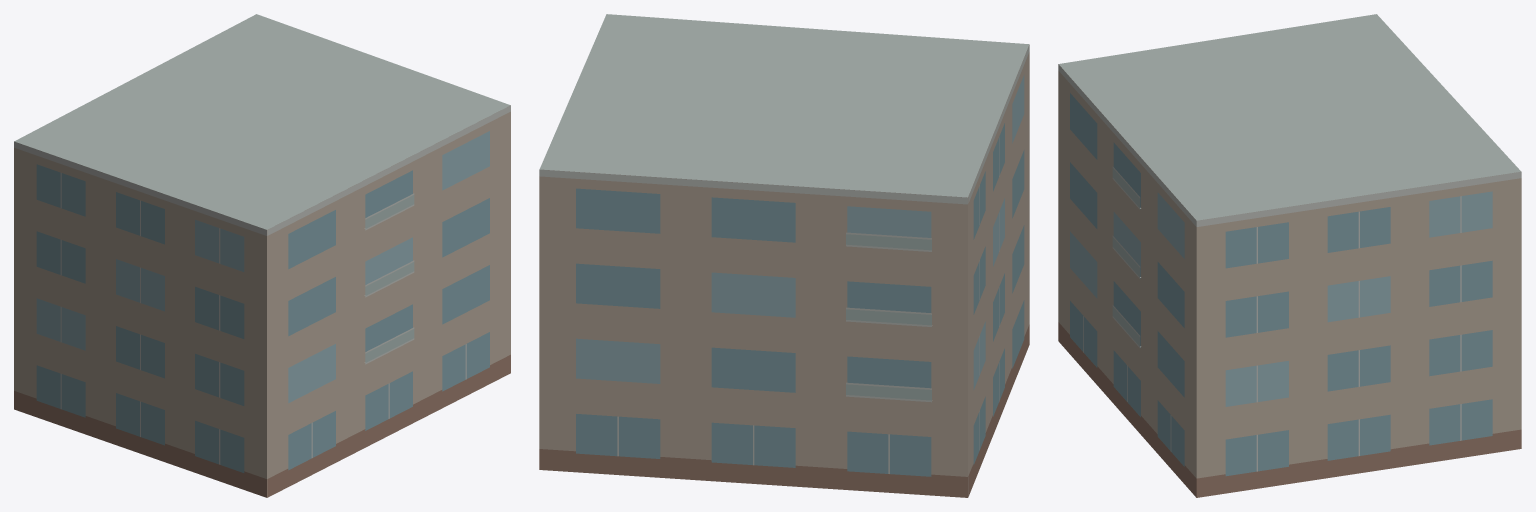
The model's file is survey-upis-32527606.glb.
3 views of the same model, side by side, from view 1: azimuth 30°, elevation 25°; view 2: azimuth 150°, elevation 25°; view 3: azimuth 270°, elevation 25° (orthographic). The views are drawn at different scales.
Visible parts, largest first — view 1: survey-upis-32527606.tmp; view 2: survey-upis-32527606.tmp; view 3: survey-upis-32527606.tmp.
Boxes of the visible parts, x1,y1,x2,y2 form: survey-upis-32527606.tmp: [14, 14, 510, 497]; survey-upis-32527606.tmp: [539, 14, 1029, 497]; survey-upis-32527606.tmp: [1058, 14, 1521, 497].
Bounding box in the file's own units: 16.81 × 10.5 × 15.91.
